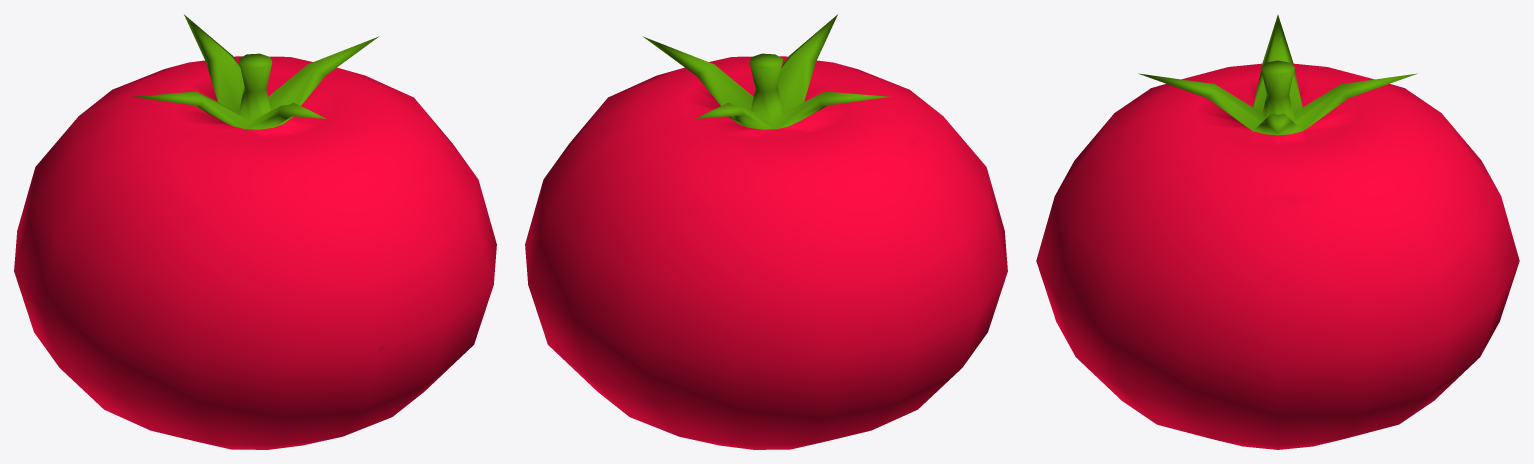
Rendered from Pomodoro.fbx.
The picture shows the model from 3 angles, left to right: view 1: azimuth 30°, elevation 25°; view 2: azimuth 150°, elevation 25°; view 3: azimuth 270°, elevation 25°; orthographic projection. The views are drawn at different scales.
Visible parts, largest first — view 1: Sphere; view 2: Sphere; view 3: Sphere.
Part boxes in pixels (x1,y1,x2,y2): Sphere: (14,14,496,449); Sphere: (525,14,1007,449); Sphere: (1036,15,1519,449).
Bounding box in the file's own units: 265 × 215 × 265.
